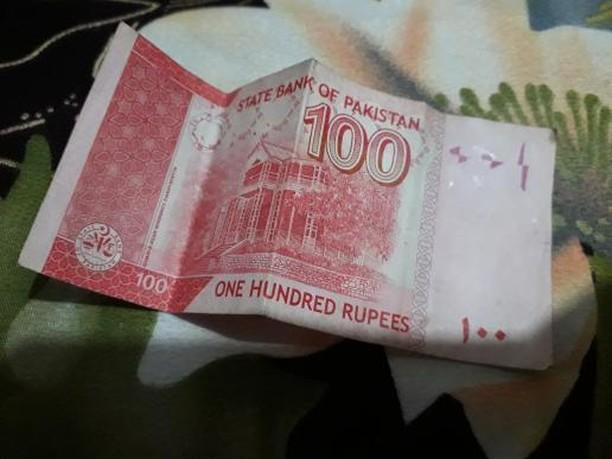100 rupee: (16, 22, 560, 372)
